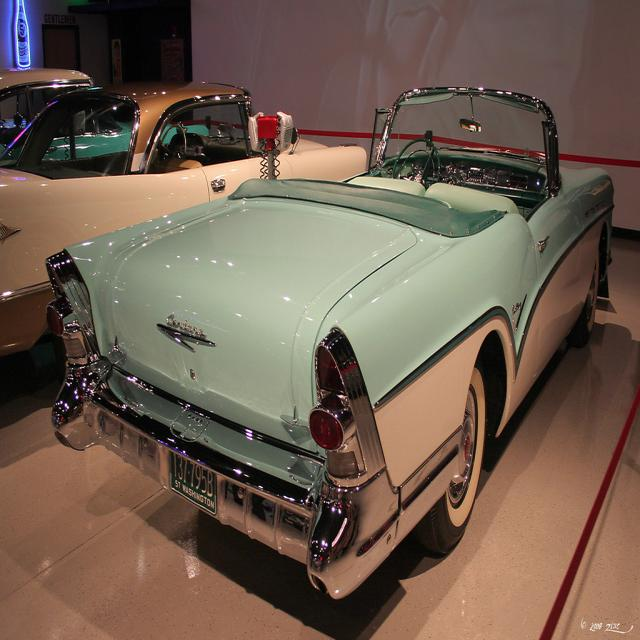car: (30, 100, 602, 603)
